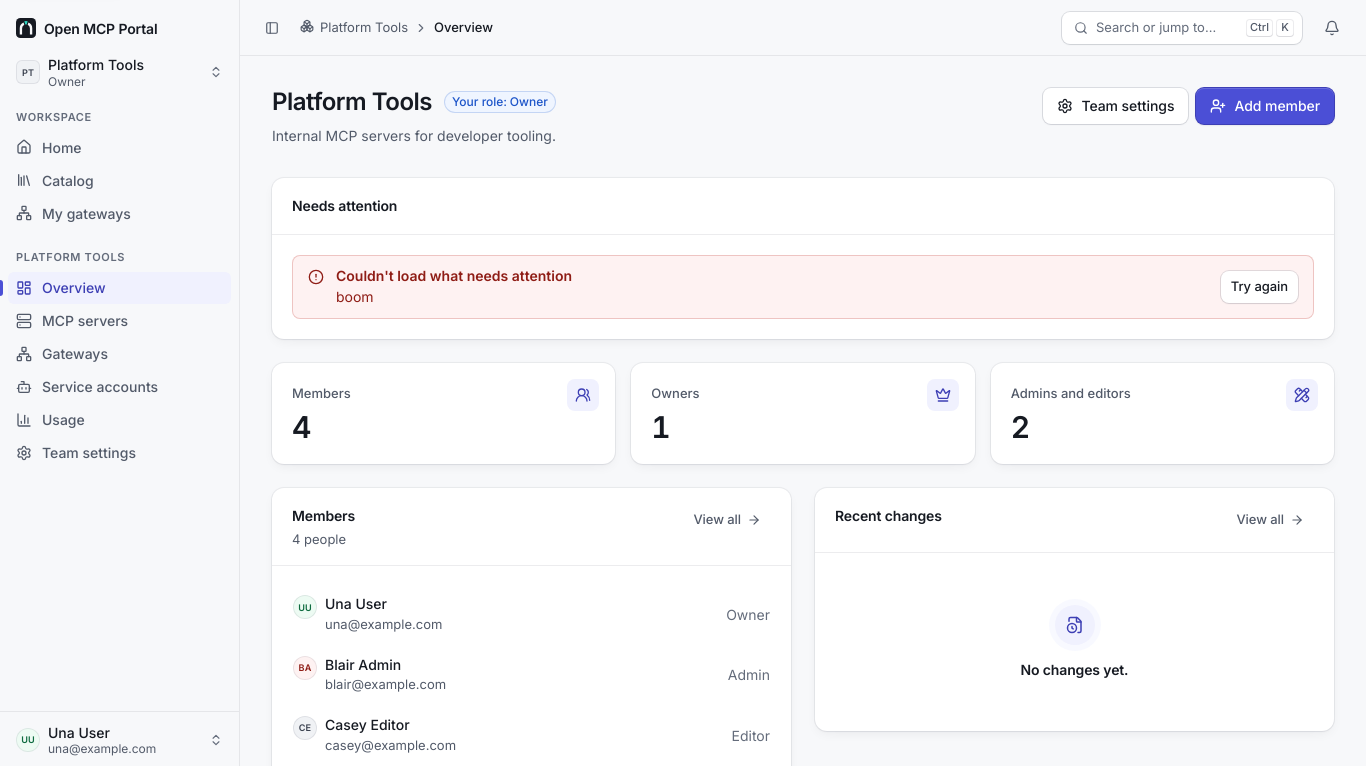
Team overview › Needs attention › shows an inline error with Retry while the rest of the page works
The width and height of the screenshot is (1366, 766).
expect the text "Couldn't load what needs attention" is shown: met, box x1=336 y1=267 x2=572 y2=284
expect the heading "Platform Tools" is shown: met, box x1=272 y1=88 x2=432 y2=117
Click the button "Try again" at point(1259, 287), box x1=1221 y1=271 x2=1298 y2=303
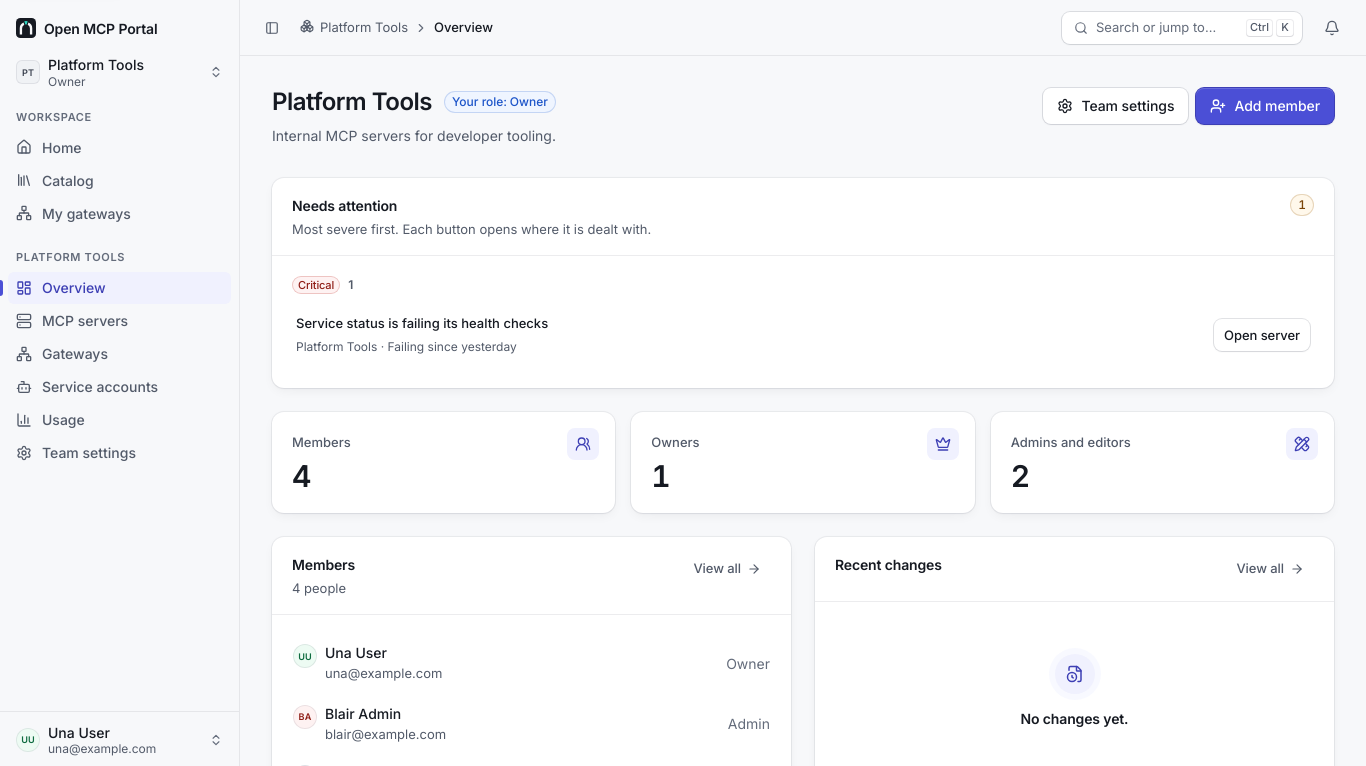
expect the text "Service status is failing its health checks" is shown: met, box x1=296 y1=314 x2=548 y2=334
